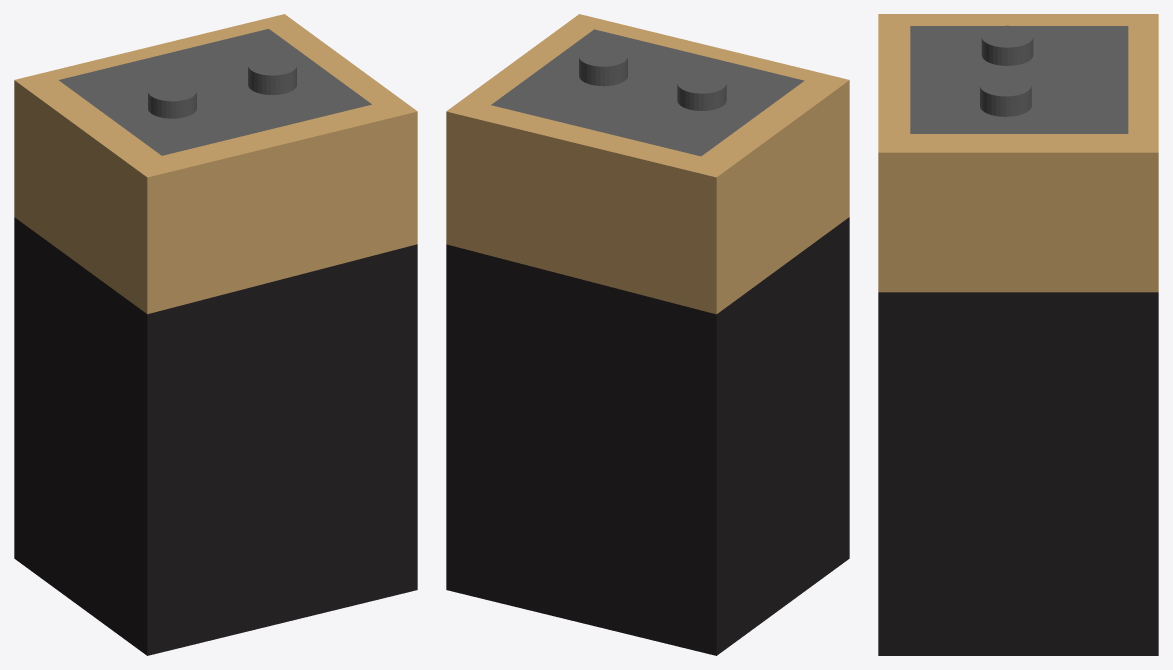
Rendered from battery.gltf.
3 renders of one model, left to right at view 1: azimuth 30°, elevation 25°; view 2: azimuth 150°, elevation 25°; view 3: azimuth 270°, elevation 25°, orthographic. The views are drawn at different scales.
Parts seen in each view (by area): view 1: Cylinder; view 2: Cylinder; view 3: Cylinder.
Part boxes in pixels (x1,y1,x2,y2): Cylinder: (14,14,417,655); Cylinder: (446,14,849,655); Cylinder: (878,14,1158,655).
Bounding box in the file's own units: 1.18 × 2.1 × 1.01.
